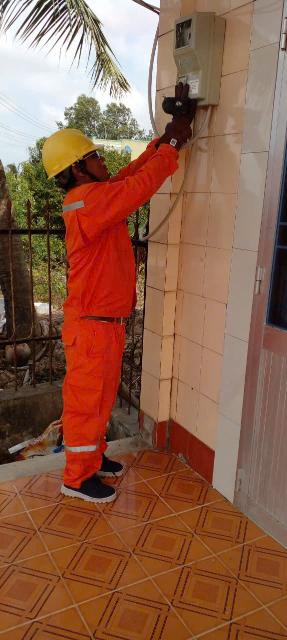gloves: (162, 86, 208, 157)
harness: (56, 292, 144, 334)
helmet: (28, 114, 112, 182)
shoes: (48, 467, 122, 511), (74, 452, 140, 485)
